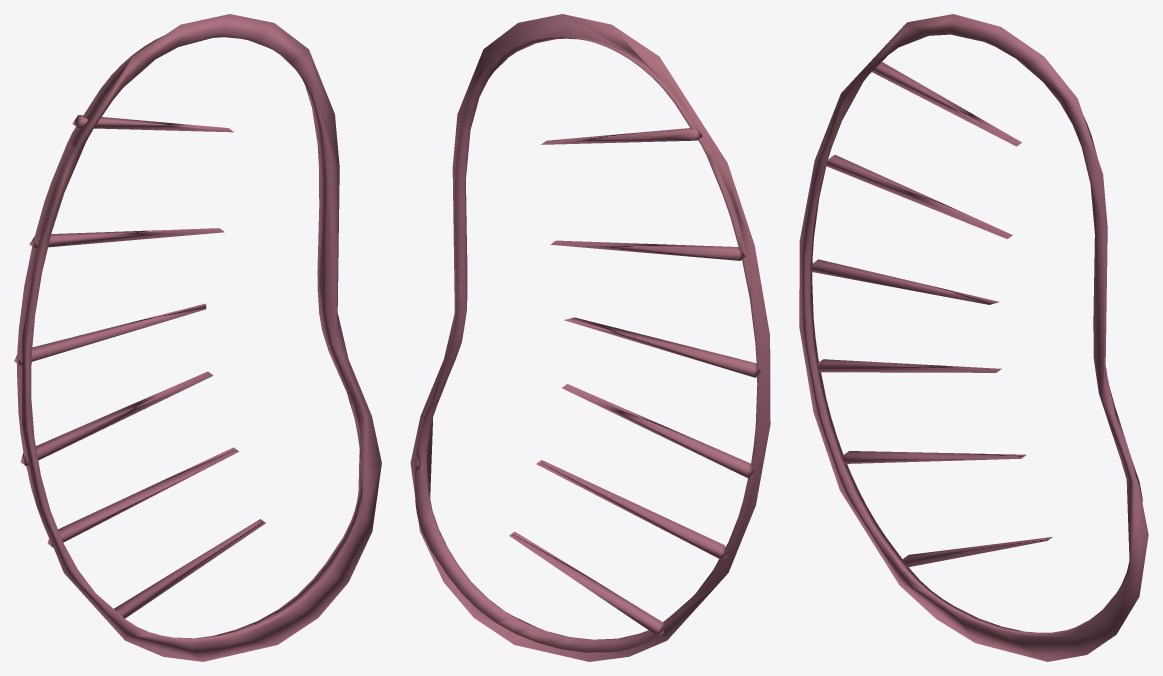
3 views of the same model, side by side, from view 1: azimuth 30°, elevation 25°; view 2: azimuth 150°, elevation 25°; view 3: azimuth 330°, elevation 25° (orthographic). The views are drawn at different scales.
Visible parts, largest first — view 1: LOD 3_16192670299155889494_a1e5460f9667e624384844bb77a670e0; view 2: LOD 3_16192670299155889494_a1e5460f9667e624384844bb77a670e0; view 3: LOD 3_16192670299155889494_a1e5460f9667e624384844bb77a670e0.
Part boxes in pixels (x1=…): LOD 3_16192670299155889494_a1e5460f9667e624384844bb77a670e0: x1=14, y1=14, x2=381, y2=661; LOD 3_16192670299155889494_a1e5460f9667e624384844bb77a670e0: x1=410, y1=14, x2=770, y2=661; LOD 3_16192670299155889494_a1e5460f9667e624384844bb77a670e0: x1=799, y1=14, x2=1148, y2=661.
Size of the model in its own units: 4.07 by 6.96 by 0.2337.
